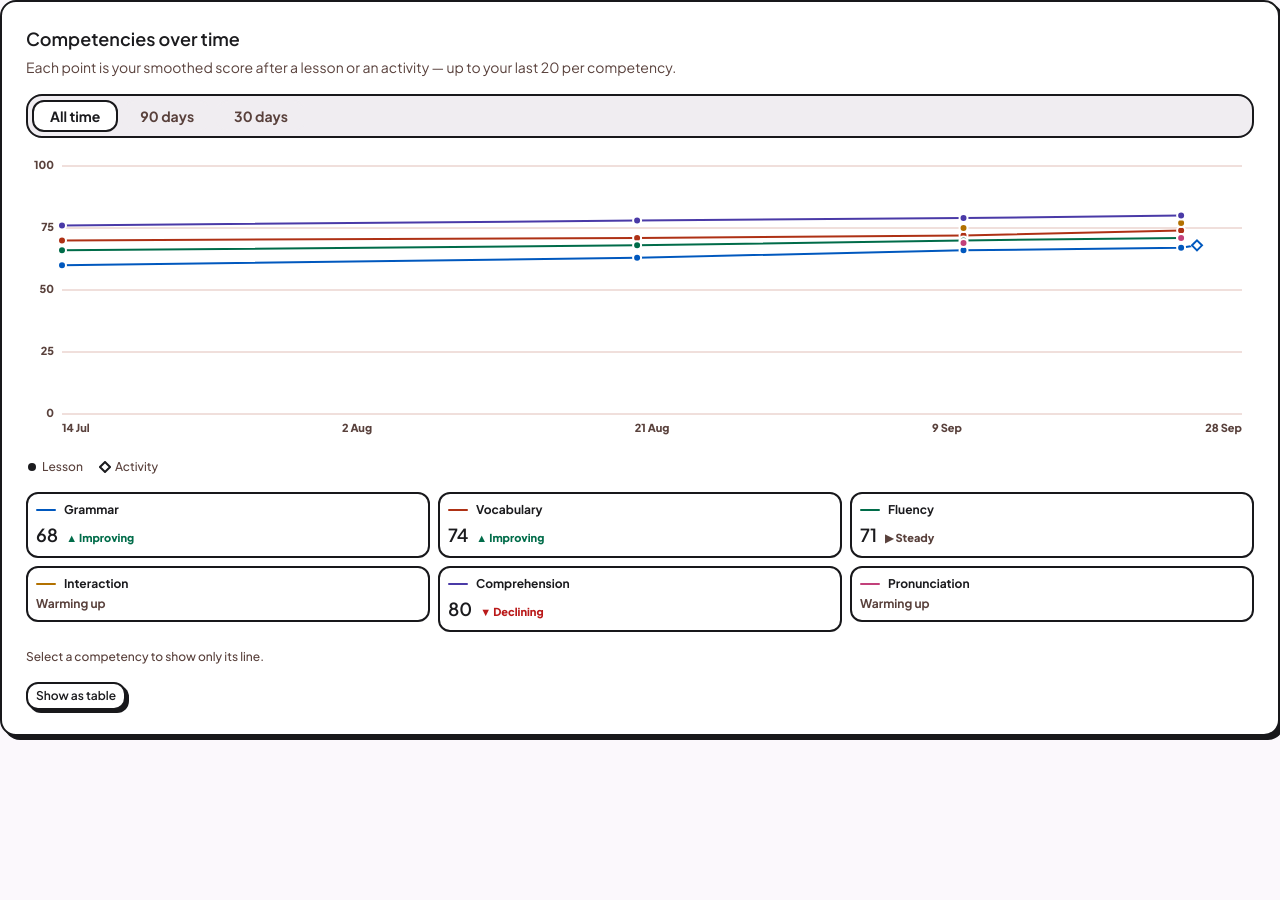
it: CompetencyChart › the_table_lists_every_moment_with_its_source
Click the button "Show as table".
click(76, 696)  # box [26, 682, 126, 710]
(page scrolled)
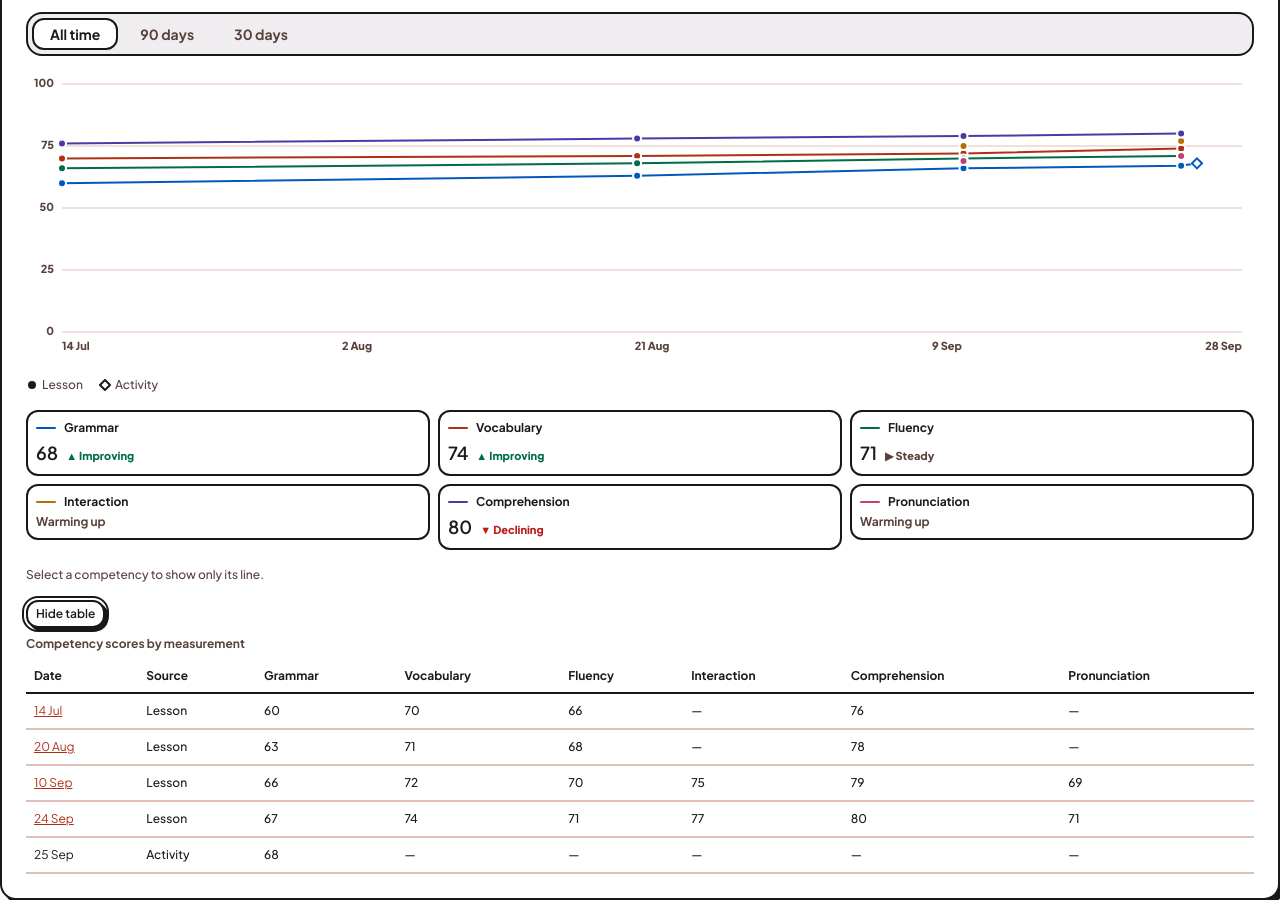
Result: the button "Hide table" is expanded at [26, 600, 105, 628]
Result: the number of rows is 6 at [26, 660, 1254, 693]; [26, 693, 1254, 729]; [26, 729, 1254, 765]; [26, 765, 1254, 801]; [26, 801, 1254, 837]; [26, 837, 1254, 873]
Result: the text "—" is shown 2 times at [683, 693, 843, 729]; [1060, 693, 1254, 729]
